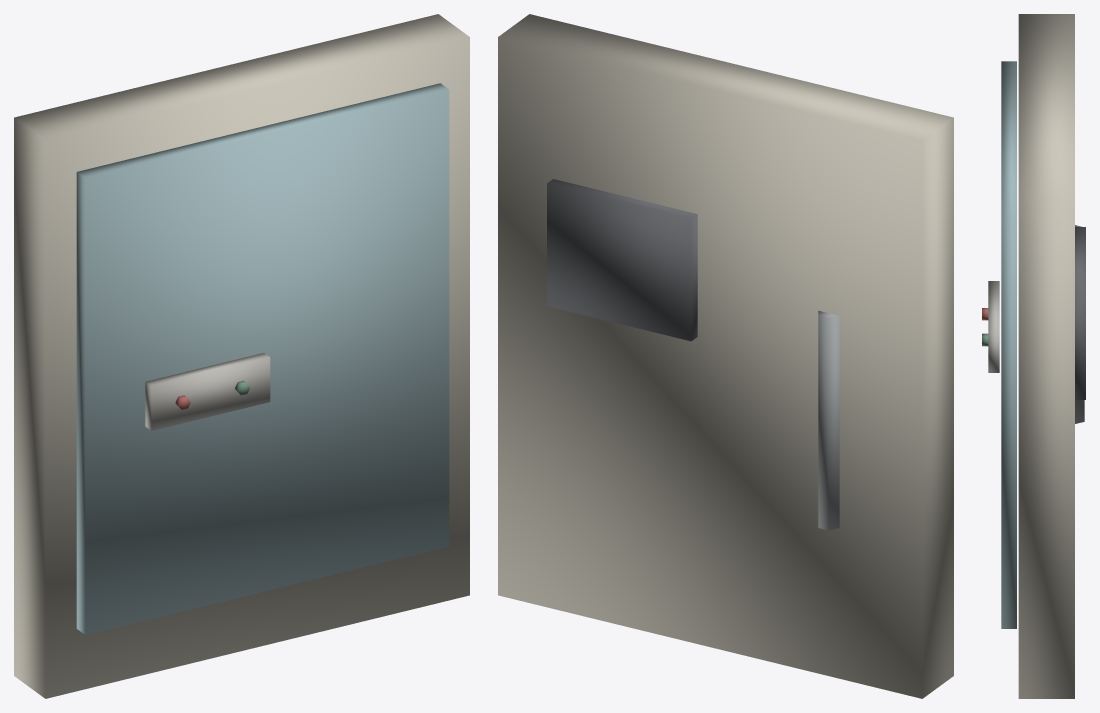
File: x_ray_lightbox__service.glb
The picture shows the model from 3 angles, left to right: view 1: azimuth 30°, elevation 25°; view 2: azimuth 150°, elevation 25°; view 3: azimuth 270°, elevation 25°; orthographic projection. The views are drawn at different scales.
Visible parts, largest first — view 1: world; view 2: world; view 3: world.
Part boxes in pixels (x1=…): world: x1=14, y1=14, x2=469, y2=698; world: x1=498, y1=14, x2=953, y2=698; world: x1=982, y1=14, x2=1085, y2=698.
Size of the model in its own units: 0.7 by 0.88 by 0.166.
